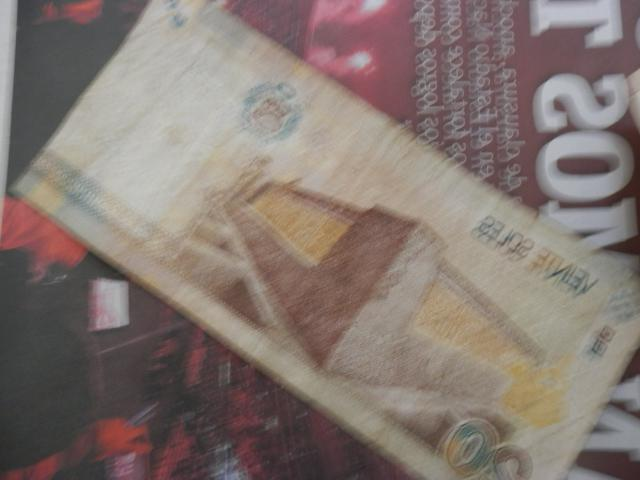B20: (7, 3, 636, 477)
